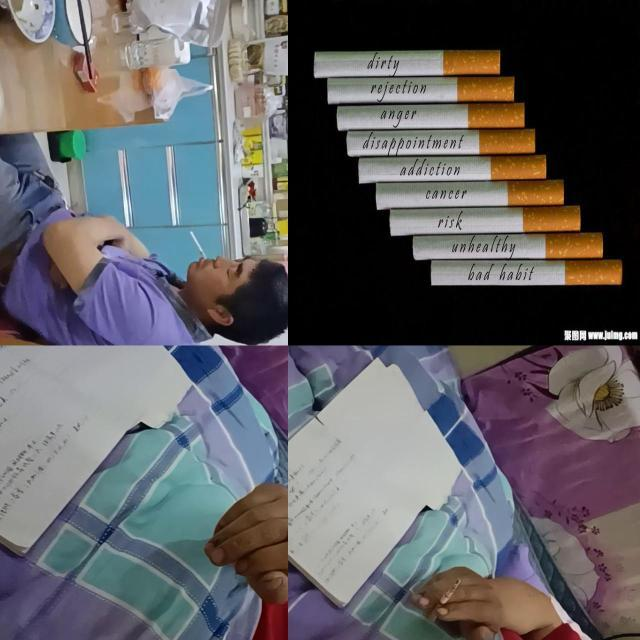smoking: (346, 128, 536, 158), (358, 154, 548, 184), (337, 102, 526, 132), (376, 180, 564, 210), (313, 50, 501, 80), (390, 206, 580, 235), (412, 232, 604, 260), (431, 260, 624, 286), (327, 78, 516, 104), (428, 576, 462, 622), (190, 232, 206, 260)
